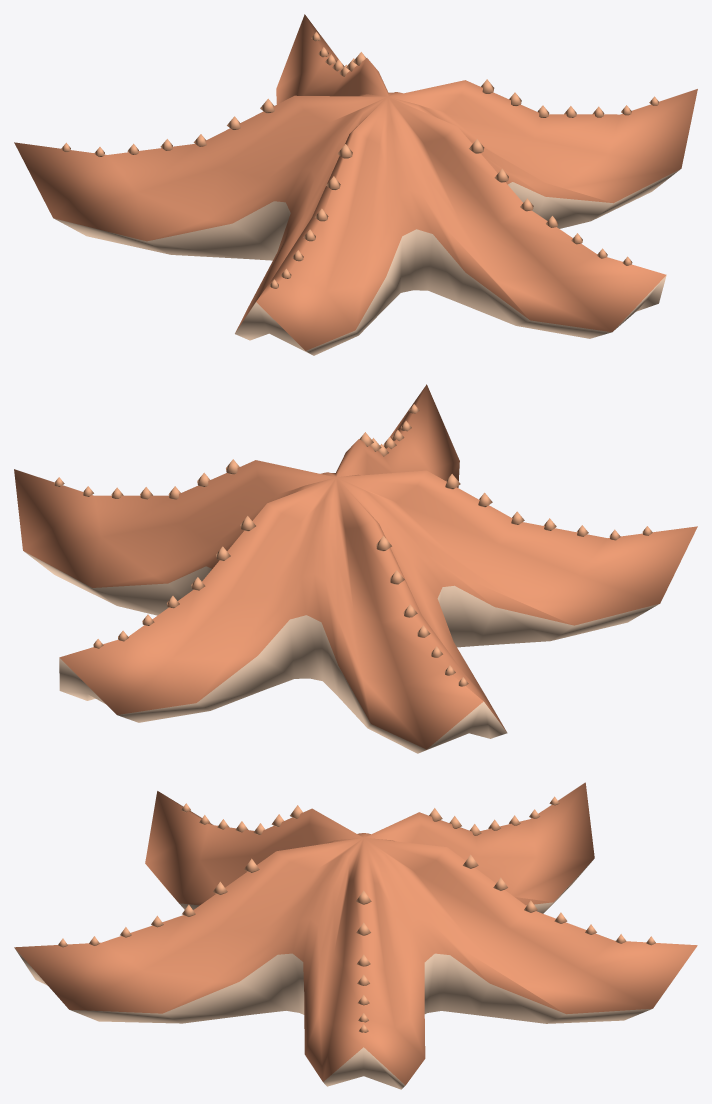
The model's file is starfish.glb.
3 renders of one model, top to bottom at view 1: azimuth 30°, elevation 25°; view 2: azimuth 150°, elevation 25°; view 3: azimuth 270°, elevation 25°, orthographic. The views are drawn at different scales.
Parts seen in each view (by area): view 1: Starfish | rounded body and underside; view 2: Starfish | rounded body and underside; view 3: Starfish | rounded body and underside.
Boxes of the visible parts, x1,y1,x2,y2 form: Starfish | rounded body and underside: (14,14,697,355); Starfish | rounded body and underside: (14,384,697,753); Starfish | rounded body and underside: (14,782,697,1089).
Bounding box in the file's own units: 0.11 × 0.028 × 0.12.
